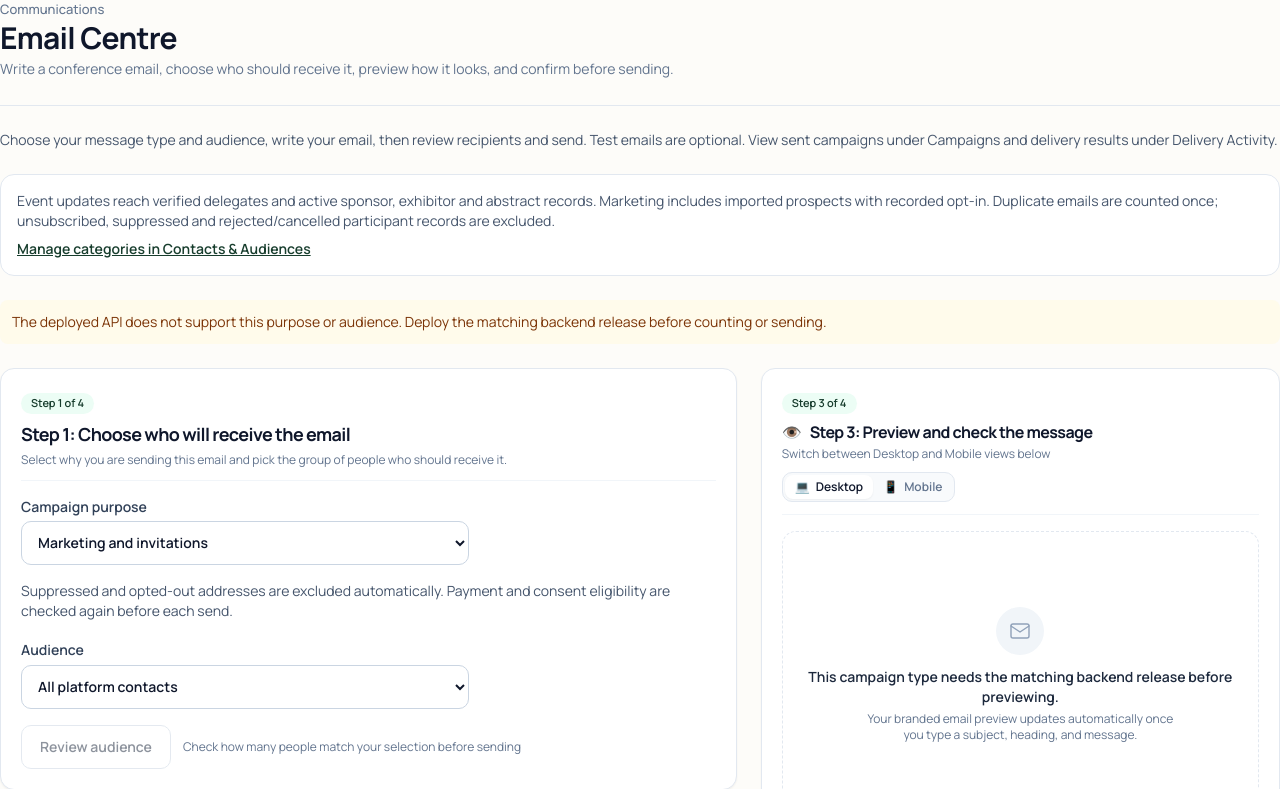
Test: Communications Centre › explains legacy API capability mismatch and prevents count or draft creation from review
Expected: the message shows "The deployed API does not support this purpose or audience", x1=12 y1=312 x2=826 y2=331
Expected: the button "Review audience" is disabled, x1=21 y1=724 x2=171 y2=768
Select "Payment reminders" in the dropdown labelled "Campaign purpose" at (245,542), box x1=21 y1=520 x2=469 y2=564
(page scrolled)
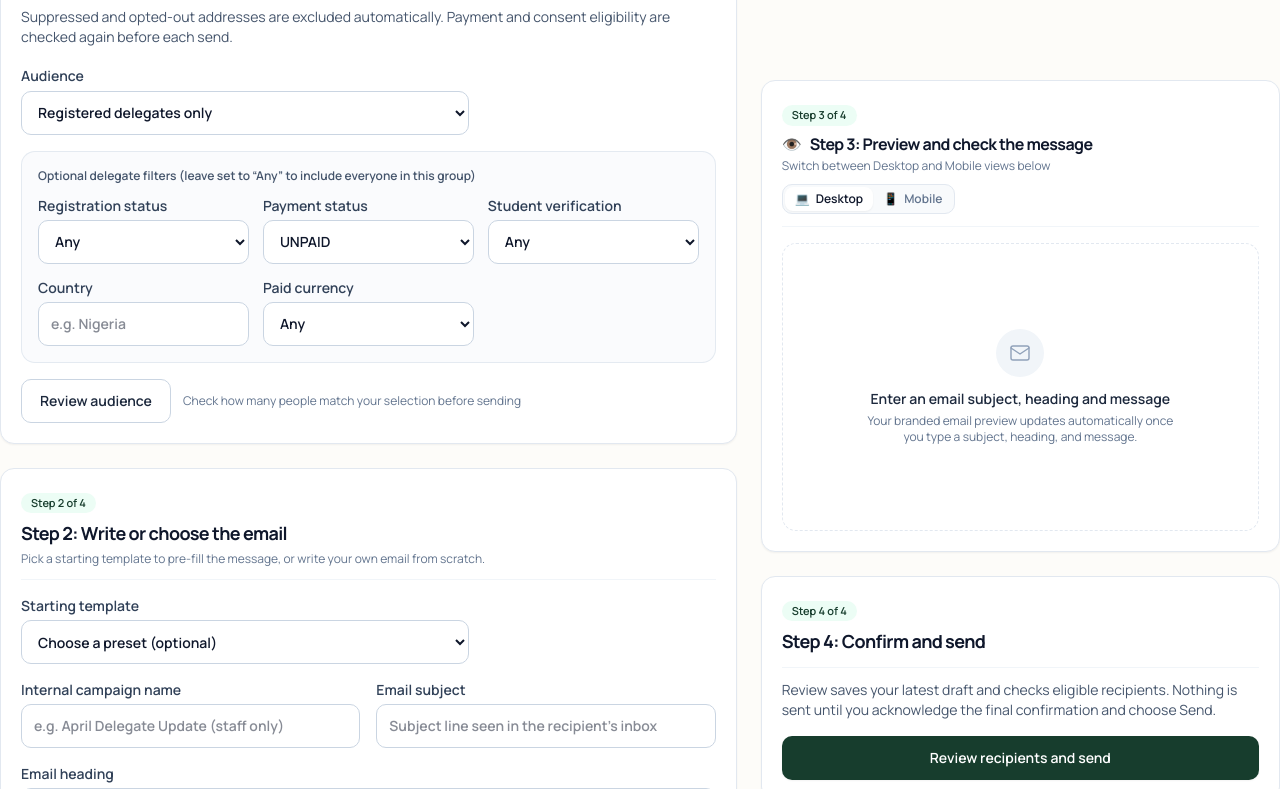
Now the message "The deployed API does not support this purpose or audience. Deploy the matching" is gone
Now the button "Review audience" is enabled, box x1=21 y1=378 x2=171 y2=422
